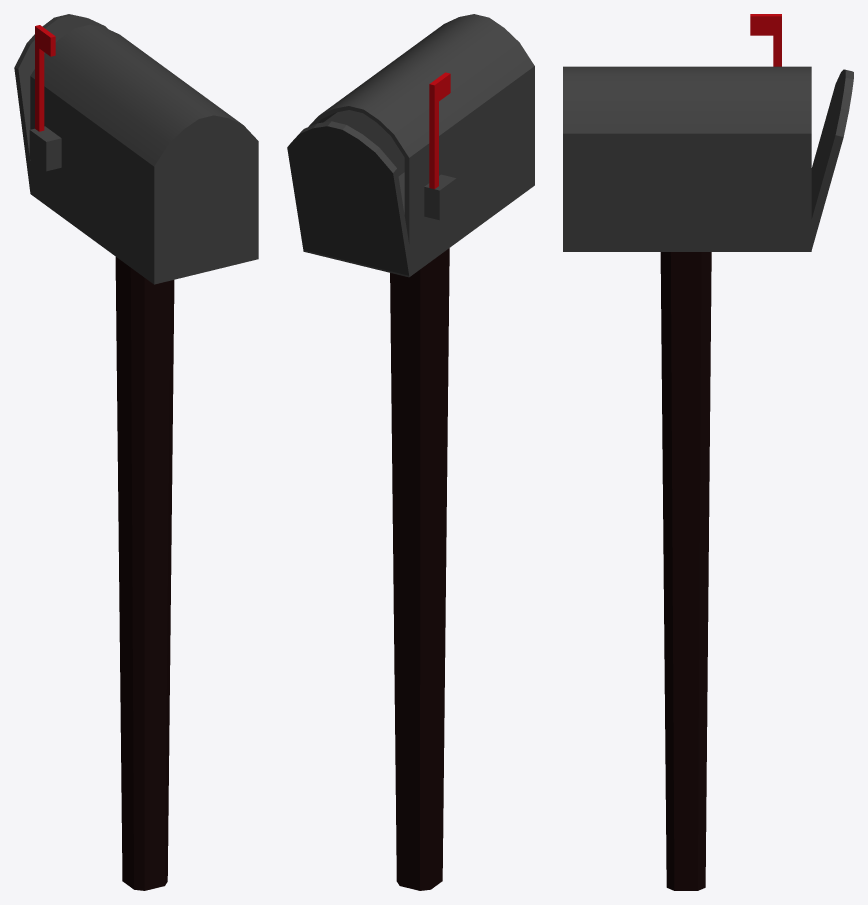
File: Postbox.FBX
3 renders of one model, left to right at view 1: azimuth 30°, elevation 25°; view 2: azimuth 150°, elevation 25°; view 3: azimuth 270°, elevation 25°, orthographic.
Visible parts, largest first — view 1: Box001; view 2: Box001; view 3: Box001.
Part boxes in pixels (bbox=[...]): Box001: bbox=[14, 14, 258, 890]; Box001: bbox=[287, 14, 534, 890]; Box001: bbox=[563, 14, 853, 890].
Size of the model in its own units: 9.58 by 63.85 by 20.07.
